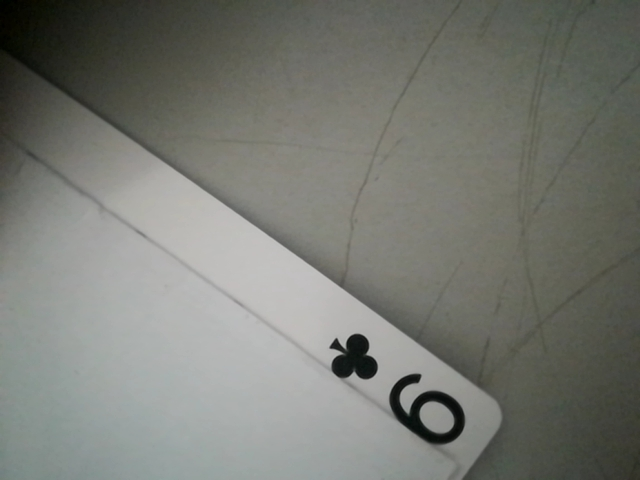mh 9: (312, 327, 485, 459)
